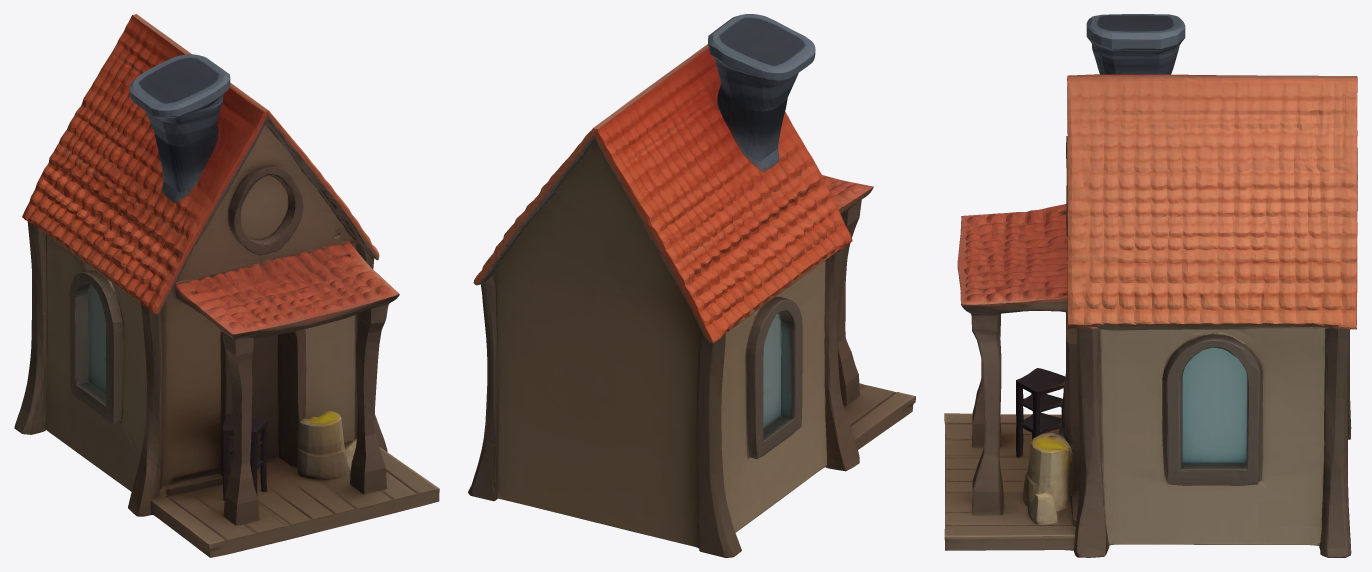
File: 3deditformer_t05.glb
3 views of the same model, side by side, from view 1: azimuth 30°, elevation 25°; view 2: azimuth 150°, elevation 25°; view 3: azimuth 270°, elevation 25° (orthographic). The views are drawn at different scales.
Visible parts, largest first — view 1: geometry_0; view 2: geometry_0; view 3: geometry_0.
Boxes of the visible parts, left/top/right/bottom form: geometry_0: left=14, top=14, right=439, bottom=557; geometry_0: left=468, top=14, right=915, bottom=557; geometry_0: left=944, top=14, right=1357, bottom=557.
Size of the model in its own units: 0.729 by 1.13 by 0.9483.
Materials: 1 (1 with a texture image).
